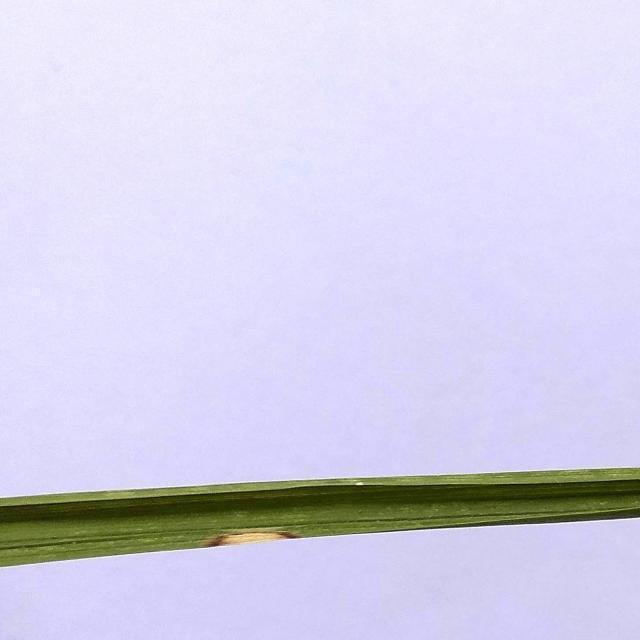Leaf_Blast: (144, 519, 362, 566)
